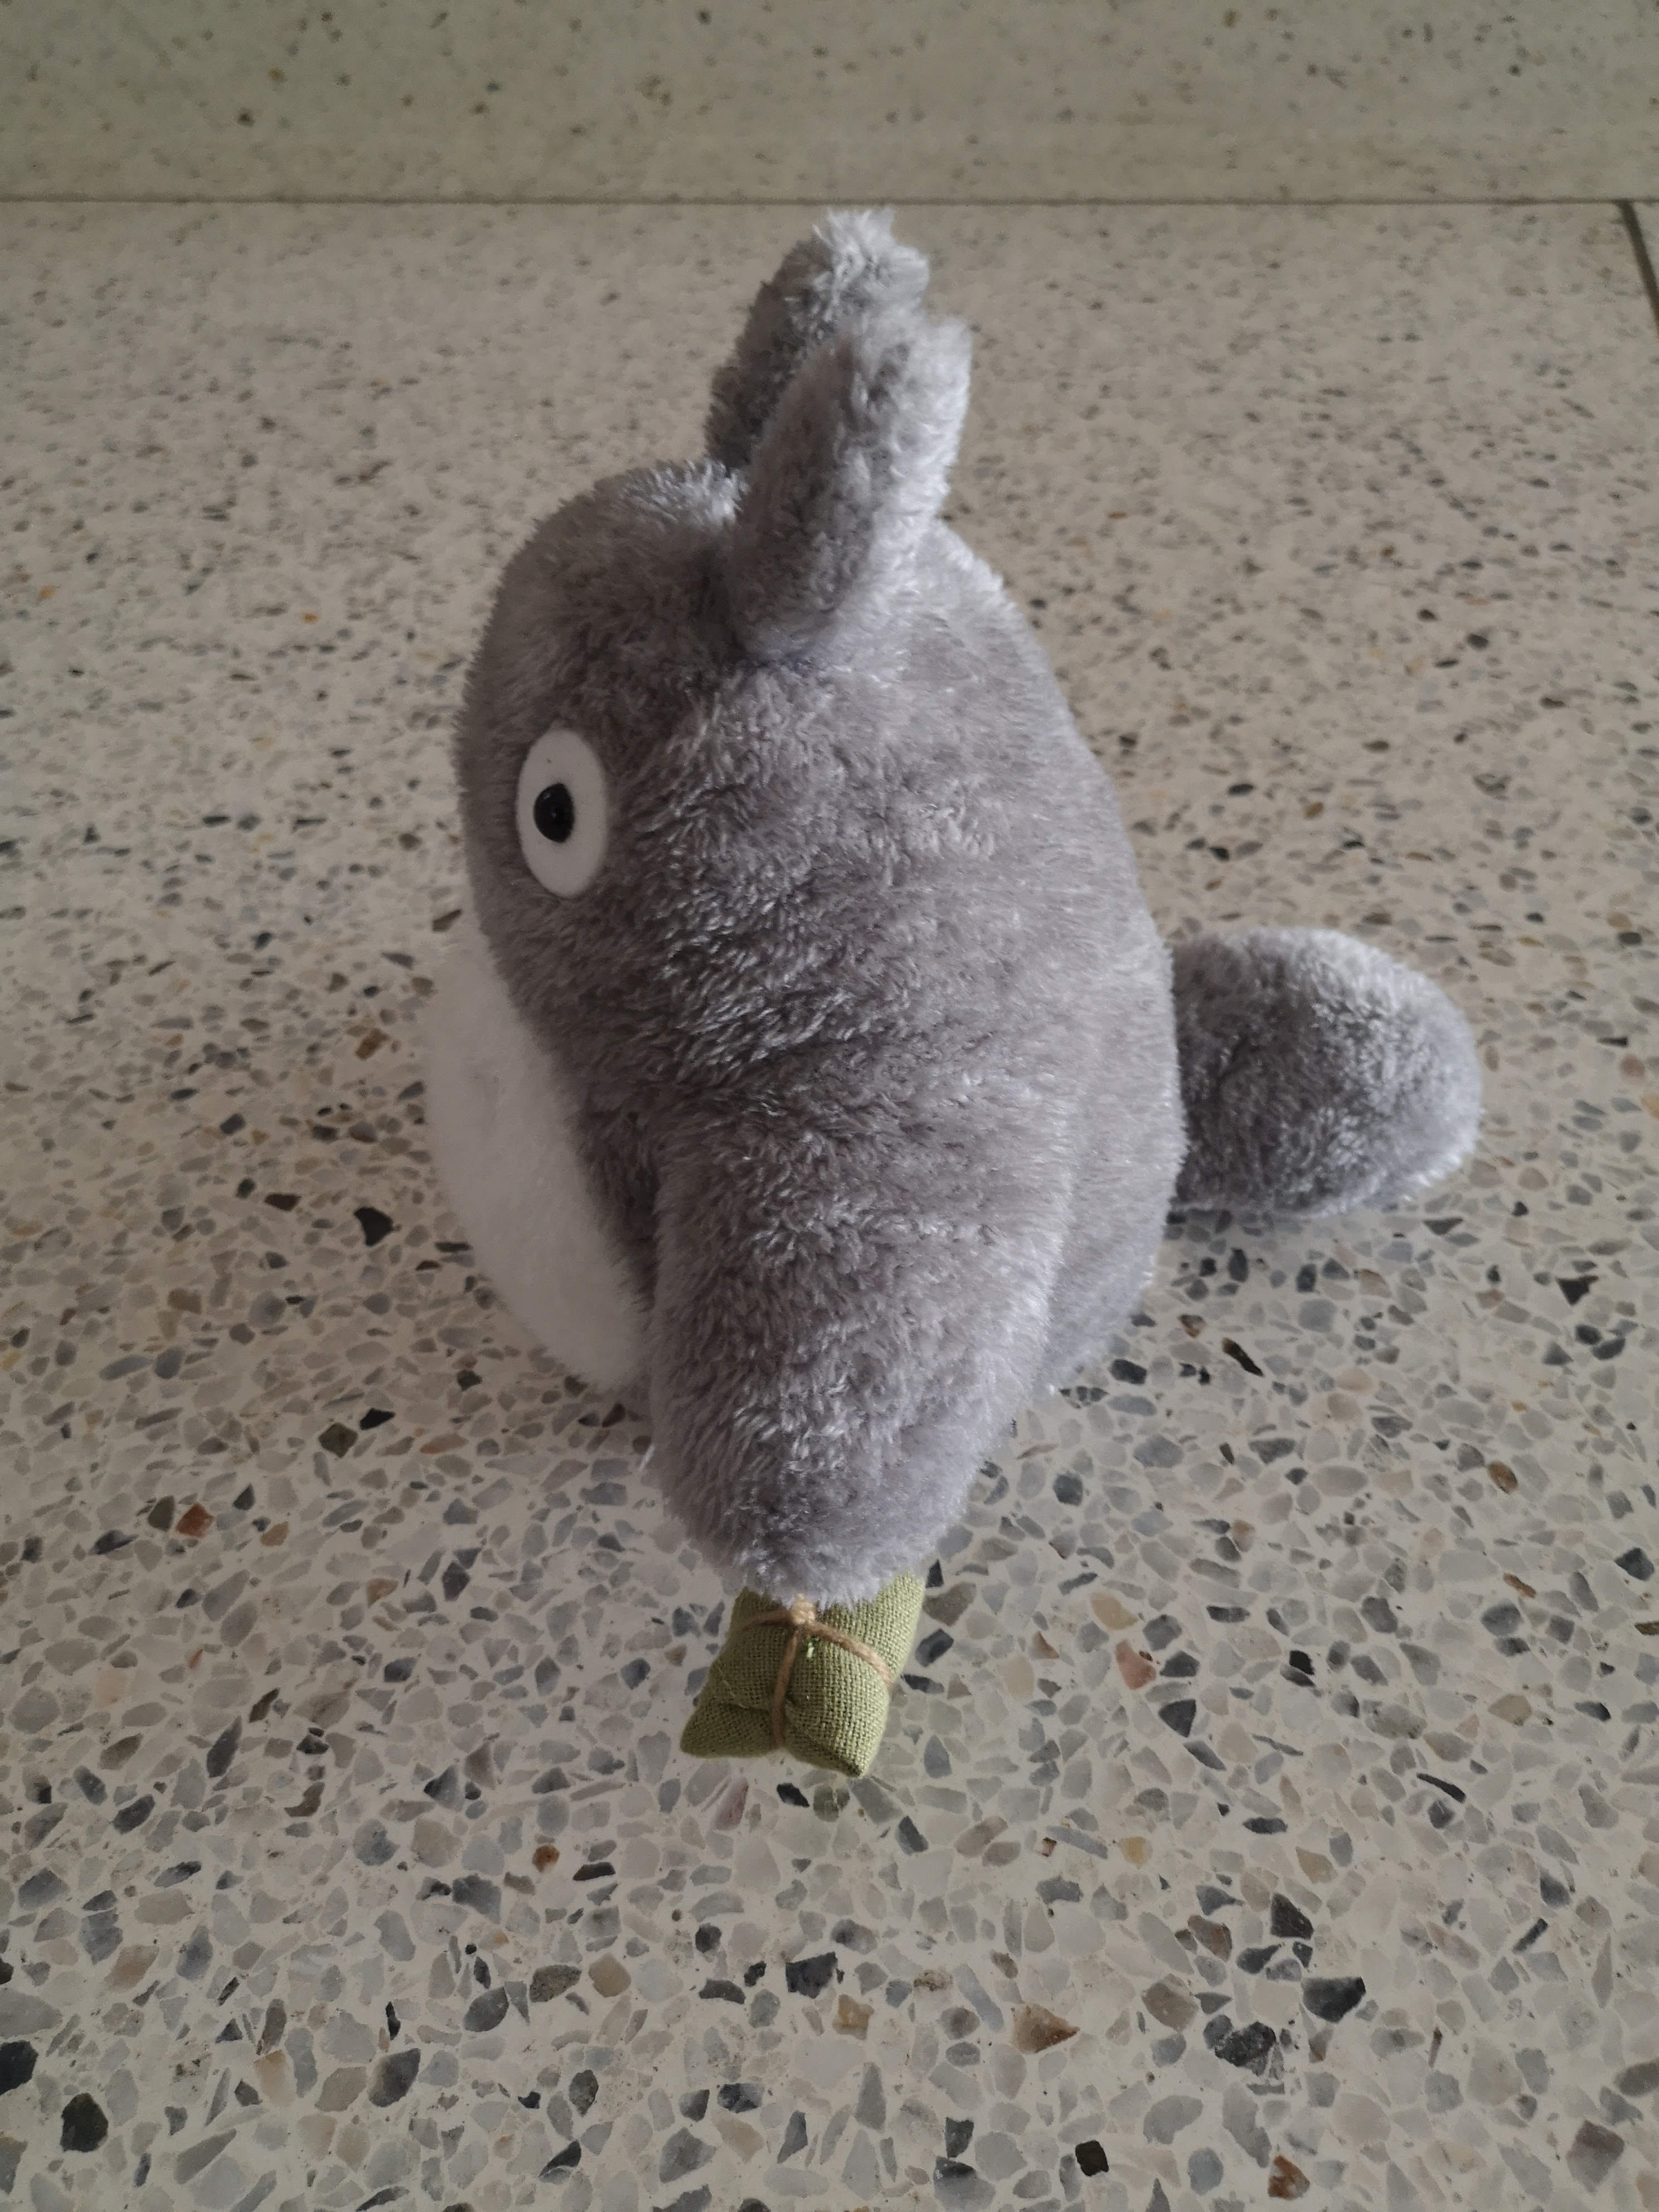totoro: (408, 204, 1500, 1785)
